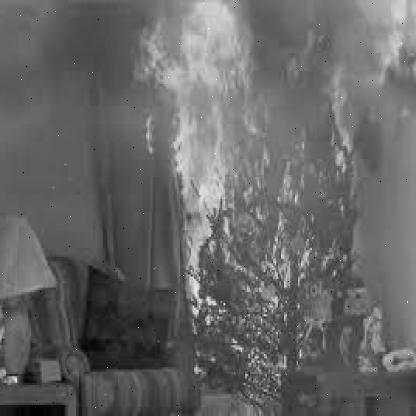fire: (141, 1, 365, 416)
smoke: (0, 0, 154, 221), (343, 7, 416, 282), (230, 0, 311, 70)
